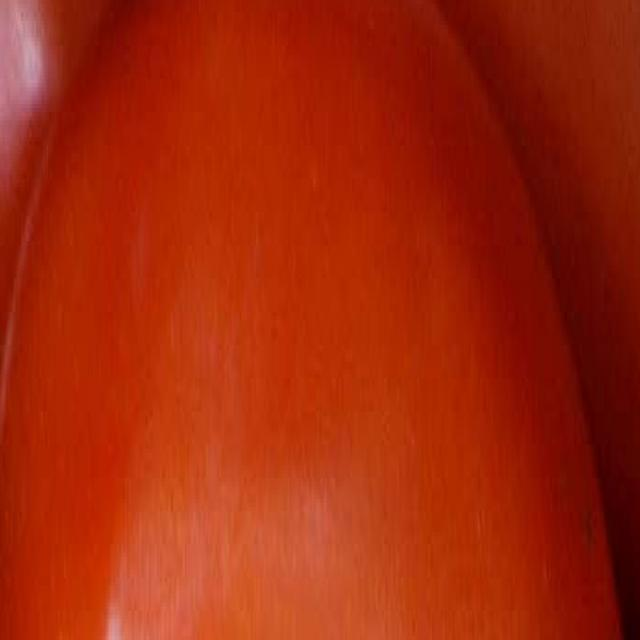Orange: (1, 4, 640, 640)
